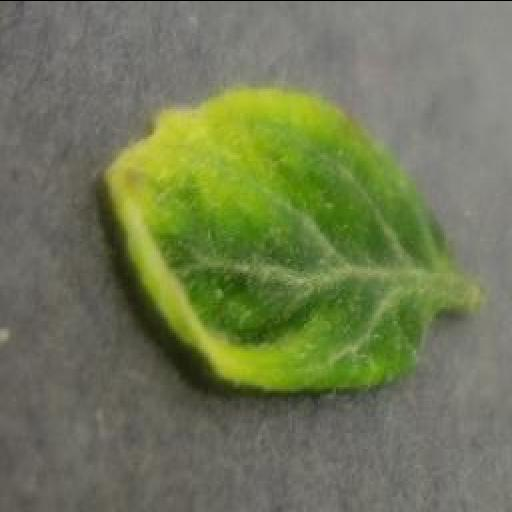disease_tomato: (103, 84, 437, 394)
